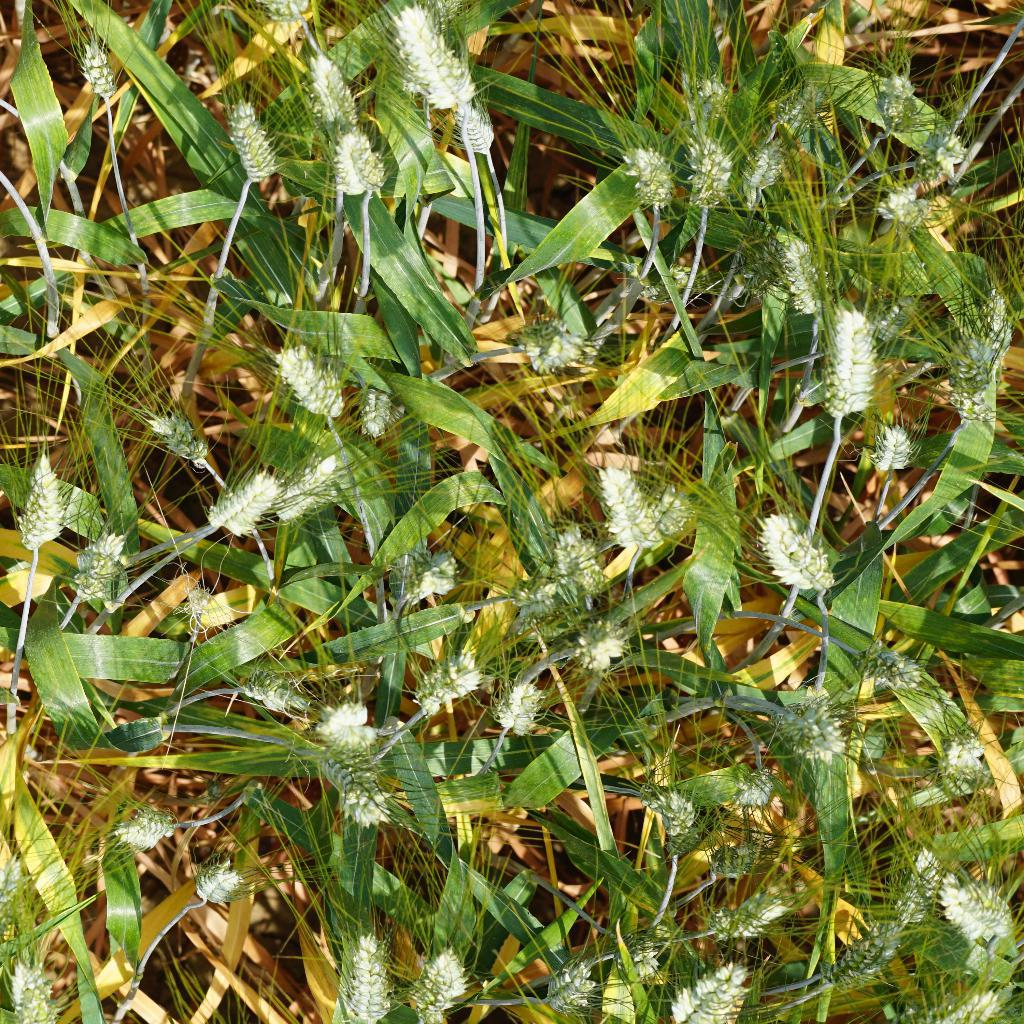0-0: (810, 294, 889, 429), (75, 405, 151, 532), (755, 508, 851, 602), (204, 90, 288, 194), (387, 0, 474, 100), (935, 295, 1002, 421), (322, 912, 396, 1024), (762, 232, 847, 328), (925, 874, 1017, 956), (269, 340, 352, 429), (273, 436, 348, 533), (314, 126, 391, 219), (6, 444, 67, 557), (770, 691, 858, 769), (591, 460, 661, 555), (852, 51, 925, 142), (609, 129, 687, 210), (205, 462, 279, 546), (294, 36, 362, 124), (832, 916, 907, 994), (56, 527, 129, 606), (316, 752, 397, 823), (729, 133, 800, 213), (877, 978, 1000, 1024), (404, 651, 482, 722), (666, 959, 750, 1024), (890, 836, 948, 929), (524, 311, 594, 388), (141, 404, 225, 468), (634, 776, 714, 843), (388, 537, 460, 608), (628, 482, 698, 555), (533, 950, 600, 1023), (403, 949, 466, 1024), (590, 912, 660, 979), (718, 878, 789, 944), (550, 519, 605, 604), (233, 665, 316, 720), (309, 694, 385, 754), (343, 372, 400, 451), (934, 725, 993, 799), (686, 122, 731, 219), (74, 27, 127, 109), (578, 615, 638, 683), (98, 799, 176, 851), (7, 953, 64, 1024), (866, 635, 925, 703), (489, 675, 548, 743), (762, 82, 829, 141), (191, 852, 253, 912), (451, 103, 514, 161), (506, 563, 563, 627), (624, 260, 709, 301), (911, 123, 971, 181), (869, 169, 920, 234), (859, 417, 912, 479), (705, 835, 764, 886), (732, 755, 785, 811), (684, 64, 728, 120), (67, 193, 159, 216), (172, 578, 215, 626)
